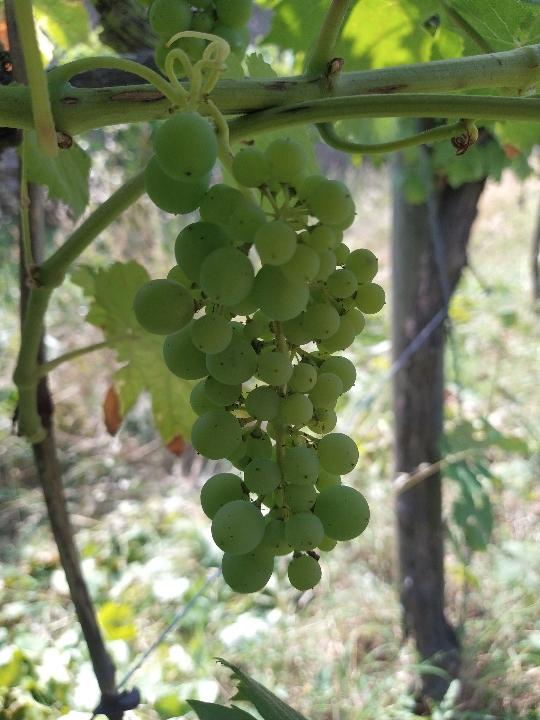grape: (130, 103, 389, 597)
